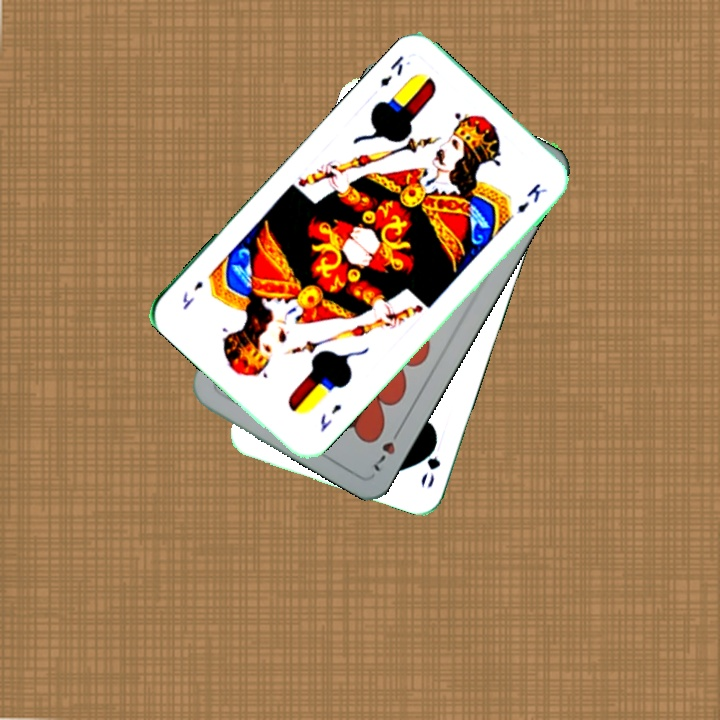EK: (376, 51, 407, 90), (315, 400, 345, 435)
GO: (416, 432, 443, 491)
H7: (369, 422, 405, 475)
